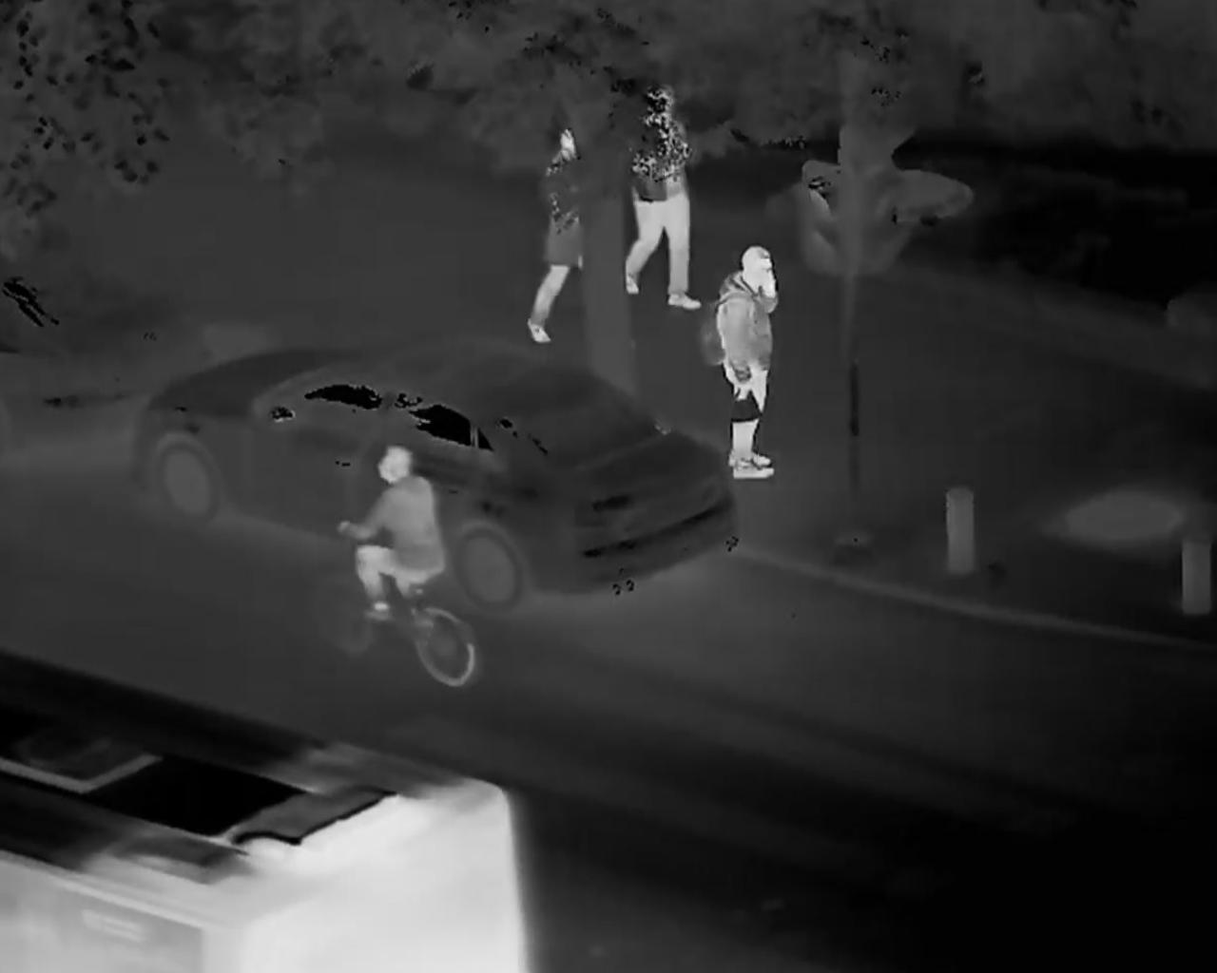person: (339, 444, 459, 624), (702, 238, 783, 477), (626, 85, 710, 314), (528, 134, 600, 334)
